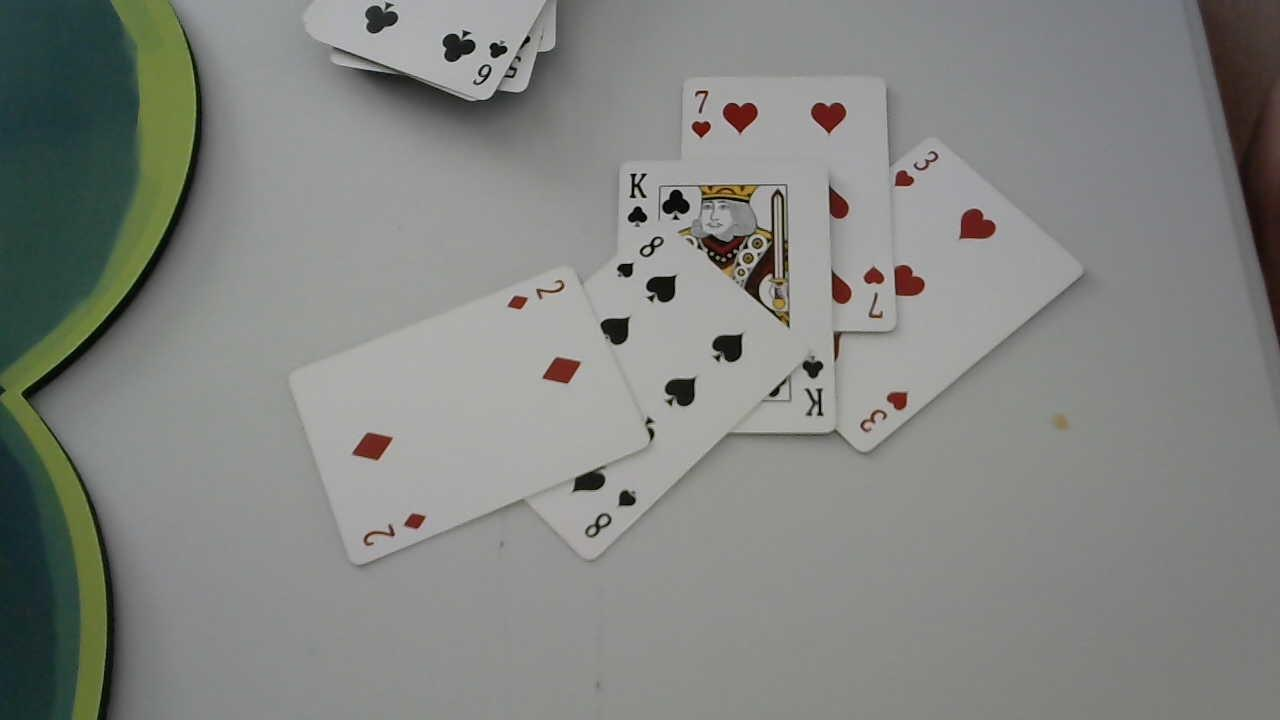2D: (508, 276, 568, 312)
3H: (856, 388, 912, 436), (892, 148, 944, 197)
6C: (469, 34, 516, 90)
7H: (861, 262, 892, 324), (688, 86, 714, 141)
8S: (576, 484, 643, 536), (614, 235, 665, 284)
BACK: (353, 510, 434, 552)
KC: (792, 352, 829, 422), (624, 169, 650, 231)
